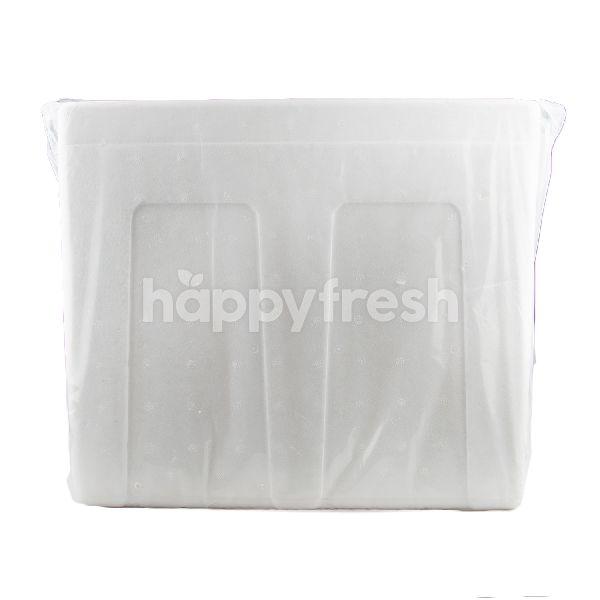Foam Box: (34, 84, 571, 530)
